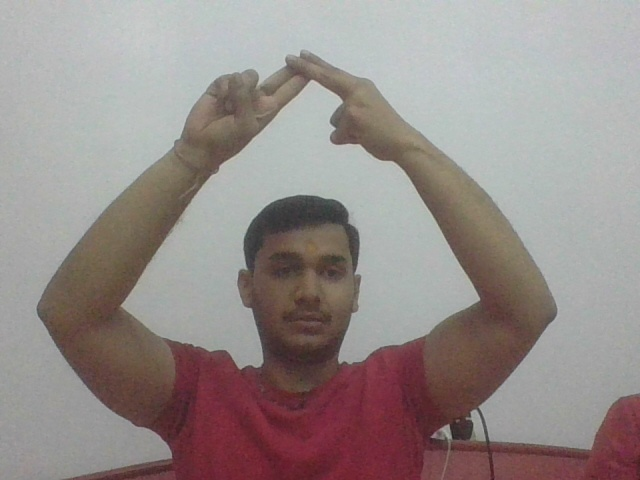F: (192, 45, 402, 161)
